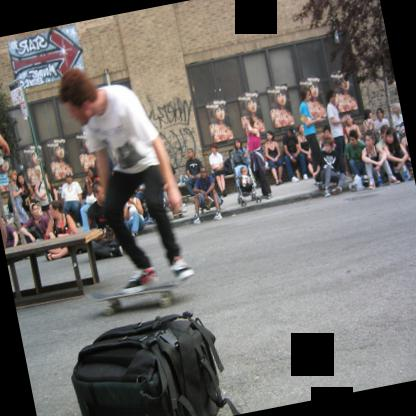backpack: (72, 310, 241, 416)
handbag: (38, 177, 44, 192)
suitcase: (70, 312, 240, 416)
